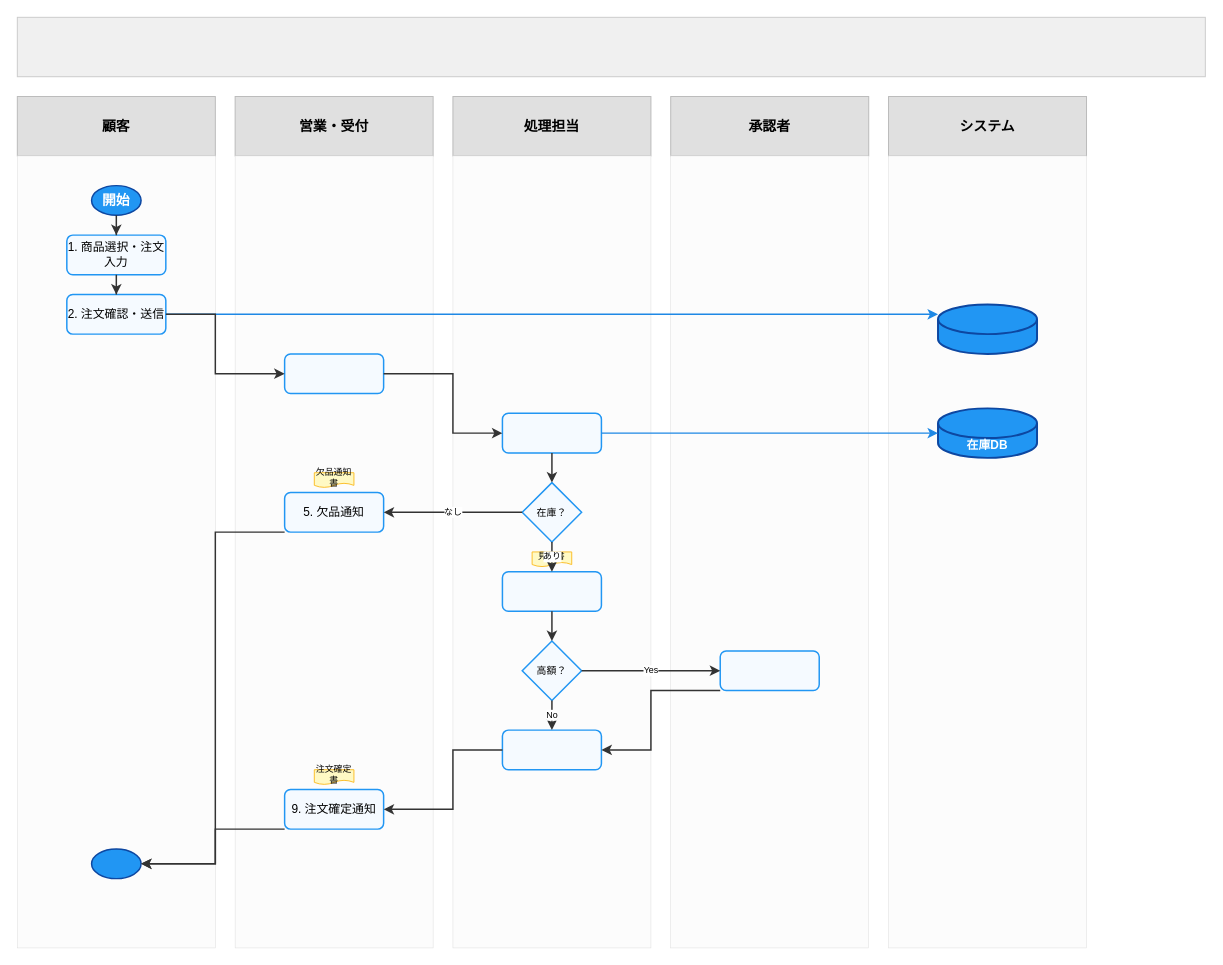
This 1223x965 diagram has some shape labels left out. Each missing label, with the centre of its shape:
"3. 注文受付・確認" belongs at point (333, 373).
"4. 在庫確認" belongs at point (551, 432).
"6. 価格計算・見積作成" belongs at point (551, 591).
"7. 管理者承認" belongs at point (769, 670).
"8. 注文確定処理" belongs at point (551, 749).
"ECサイト注文処理業務フロー｜作成日：2025-01-24｜作成部署：システム開発部" belongs at point (610, 46).
"注文DB" belongs at point (987, 328).
"終了" belongs at point (115, 863).
